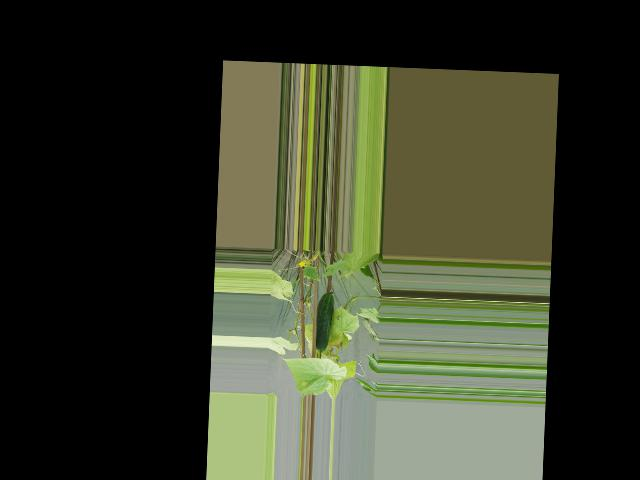cucumber: (314, 291, 334, 352)
